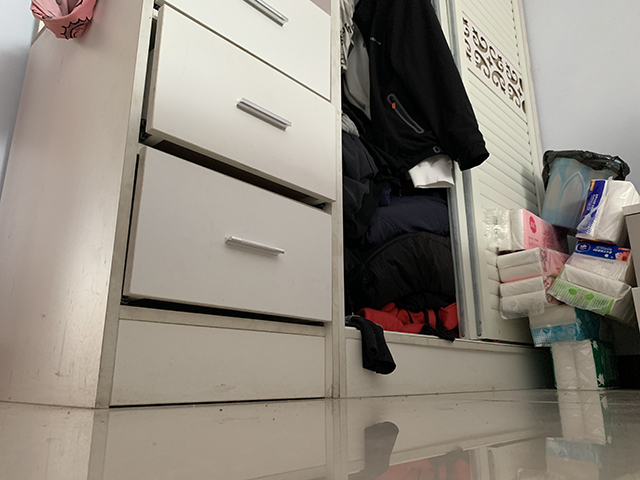cabinet: (1, 1, 545, 410)
